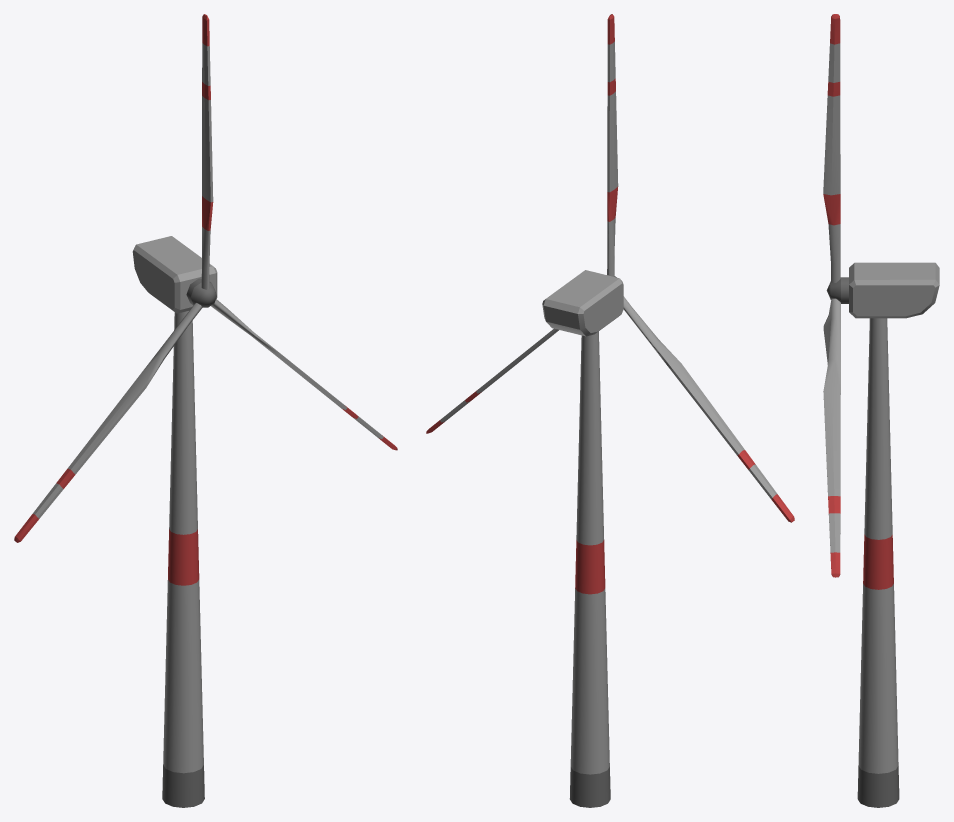
The model's file is SM_WindTurbine_02.gltf.
The picture shows the model from 3 angles, left to right: view 1: azimuth 30°, elevation 25°; view 2: azimuth 150°, elevation 25°; view 3: azimuth 270°, elevation 25°; orthographic projection. The views are drawn at different scales.
Parts seen in each view (by area): view 1: node-0; view 2: node-0; view 3: node-0.
Boxes of the visible parts, x1=… form: node-0: x1=14, y1=14, x2=397, y2=807; node-0: x1=426, y1=14, x2=794, y2=807; node-0: x1=823, y1=14, x2=939, y2=807.
Bounding box in the file's own units: 38.43 × 76.98 × 10.36.
